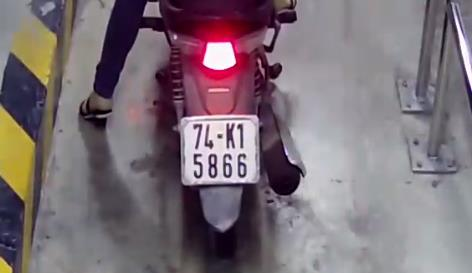lisence: (180, 117, 261, 187)
